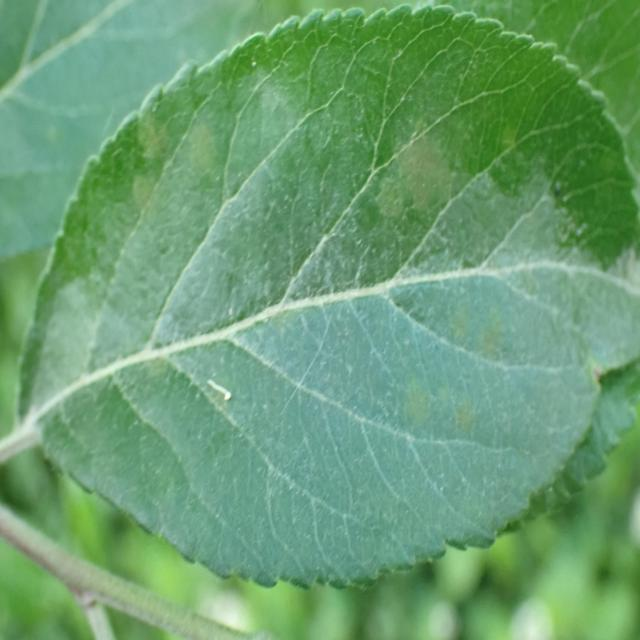scab: (90, 96, 614, 498)
